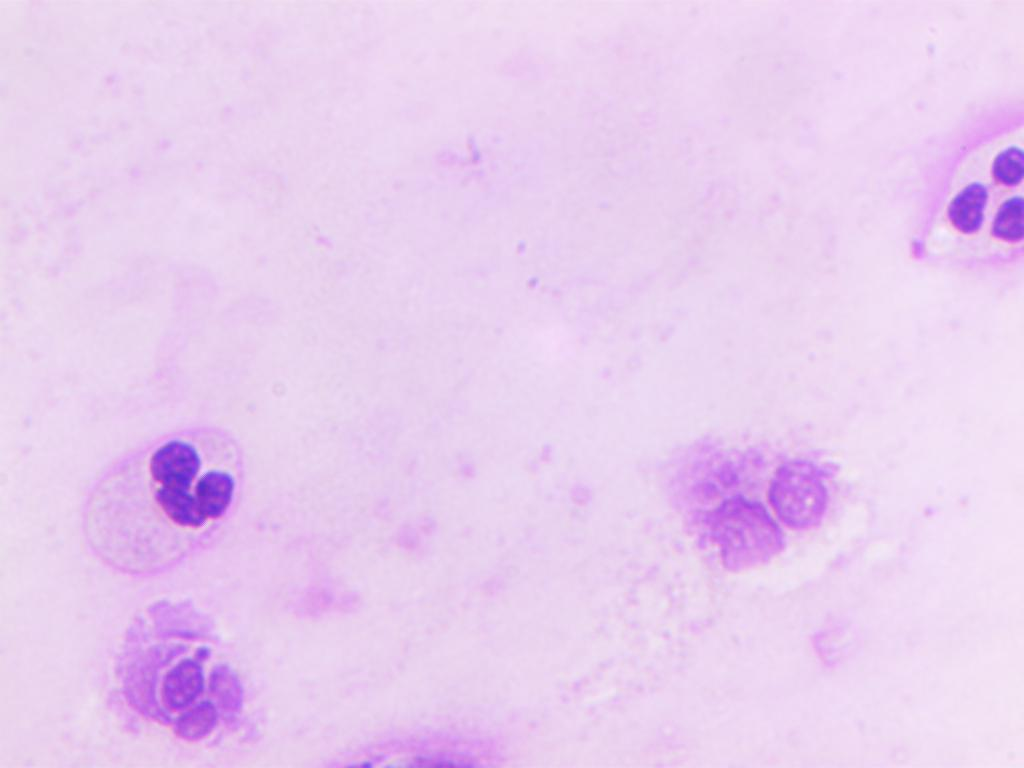neutrophil: (57, 404, 283, 584), (656, 419, 853, 600), (94, 595, 265, 758), (889, 114, 1024, 262)
